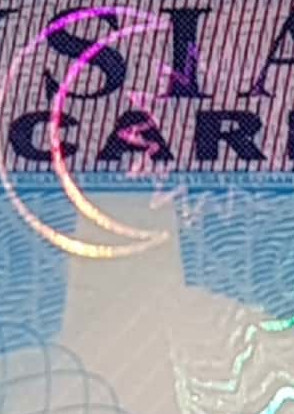hologram: (6, 7, 184, 263)
